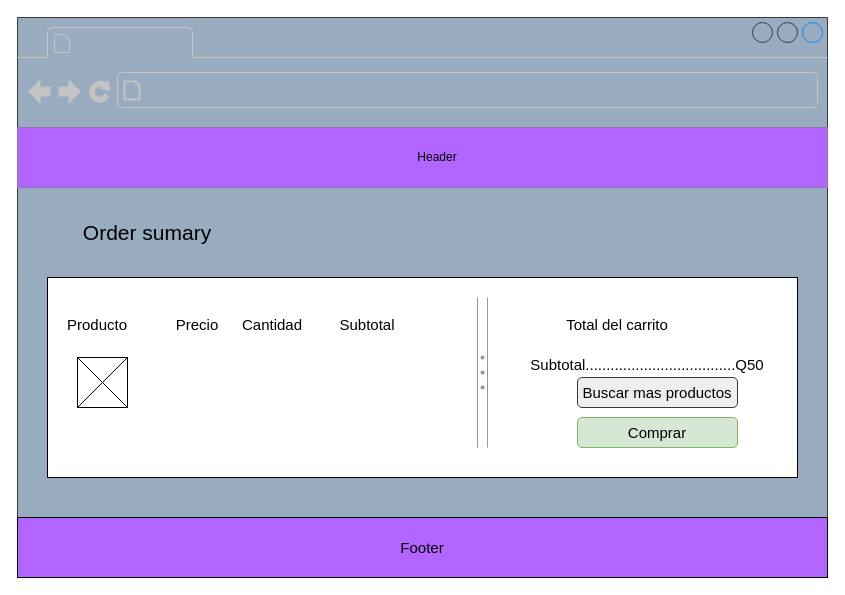
Some shapes in this 845 by 595 pixel diagram are drawn without their labels. The box of each missing label's shape, as (x1, y1, x2, y2) in pixels:
https://www.draw.io: (146, 76, 398, 104)
Page 1: (76, 28, 188, 56)
